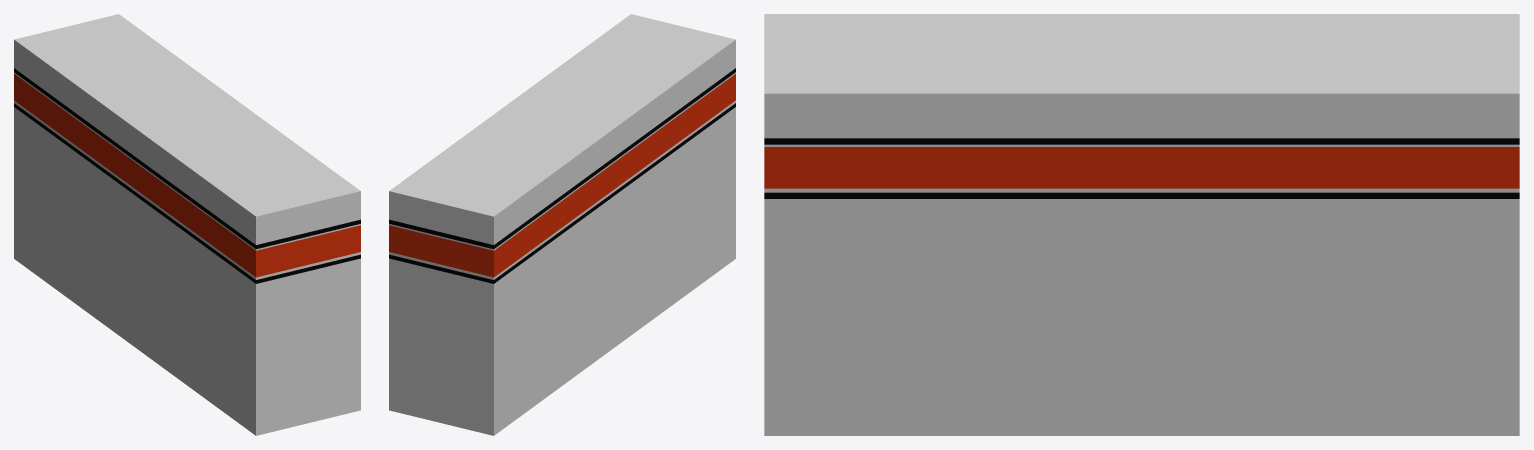
Rendered from Mur_labyrinthe.FBX.
3 views of the same model, side by side, from view 1: azimuth 30°, elevation 25°; view 2: azimuth 150°, elevation 25°; view 3: azimuth 270°, elevation 25° (orthographic). The views are drawn at different scales.
Parts seen in each view (by area): view 1: Box004; view 2: Box004; view 3: Box004.
Boxes of the visible parts, bbox=[...] form: Box004: bbox=[14, 14, 360, 435]; Box004: bbox=[389, 14, 735, 435]; Box004: bbox=[764, 14, 1519, 435].
Bounding box in the file's own units: 1 × 2 × 4.
